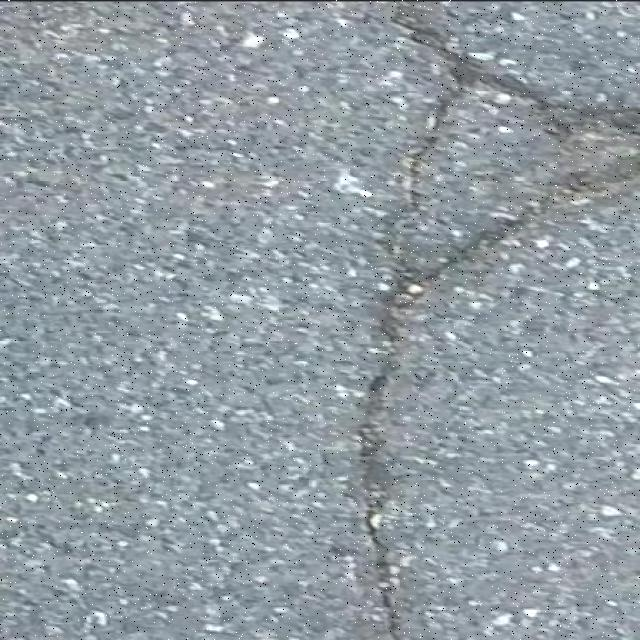Crack: (354, 154, 640, 640), (404, 55, 640, 204), (392, 0, 456, 53)
